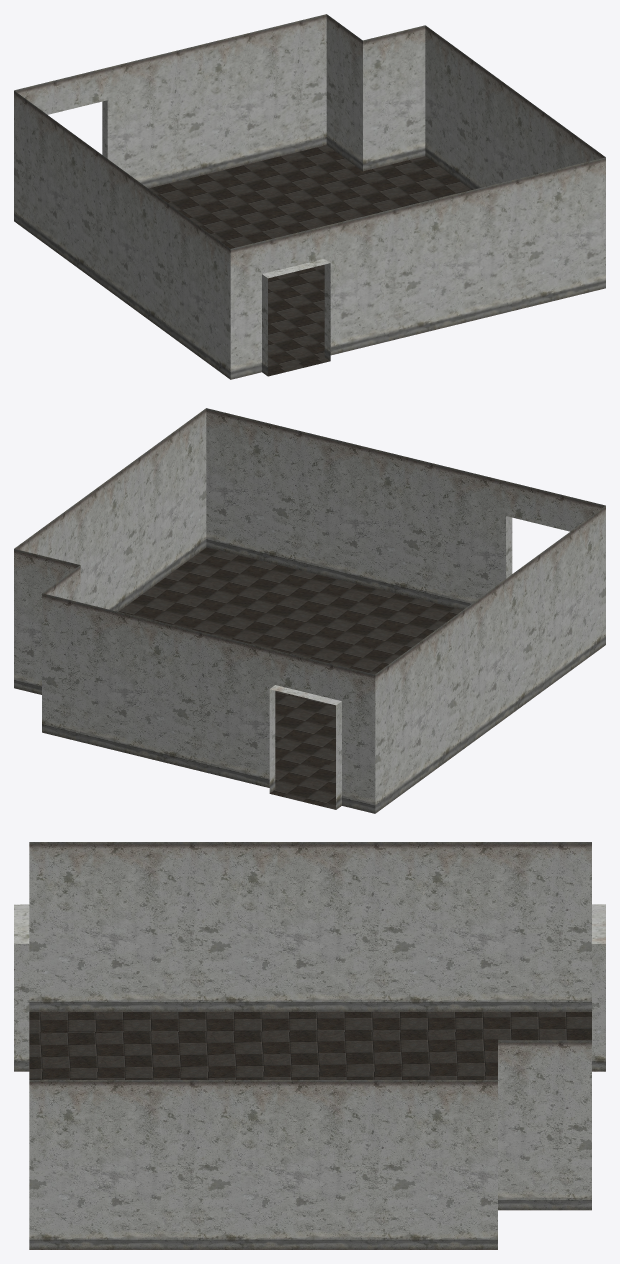
Rendered from room3.glb.
3 renders of one model, top to bottom at view 1: azimuth 30°, elevation 25°; view 2: azimuth 150°, elevation 25°; view 3: azimuth 270°, elevation 25°, orthographic. The views are drawn at different scales.
Parts seen in each view (by area): view 1: room3; view 2: room3; view 3: room3.
Part boxes in pixels (x1,y1,x2,y2): room3: [14, 14, 605, 379]; room3: [14, 408, 605, 813]; room3: [14, 842, 605, 1249].
Size of the model in its own units: 12 by 4 by 12.63.
Materials: 2 (2 with a texture image).
